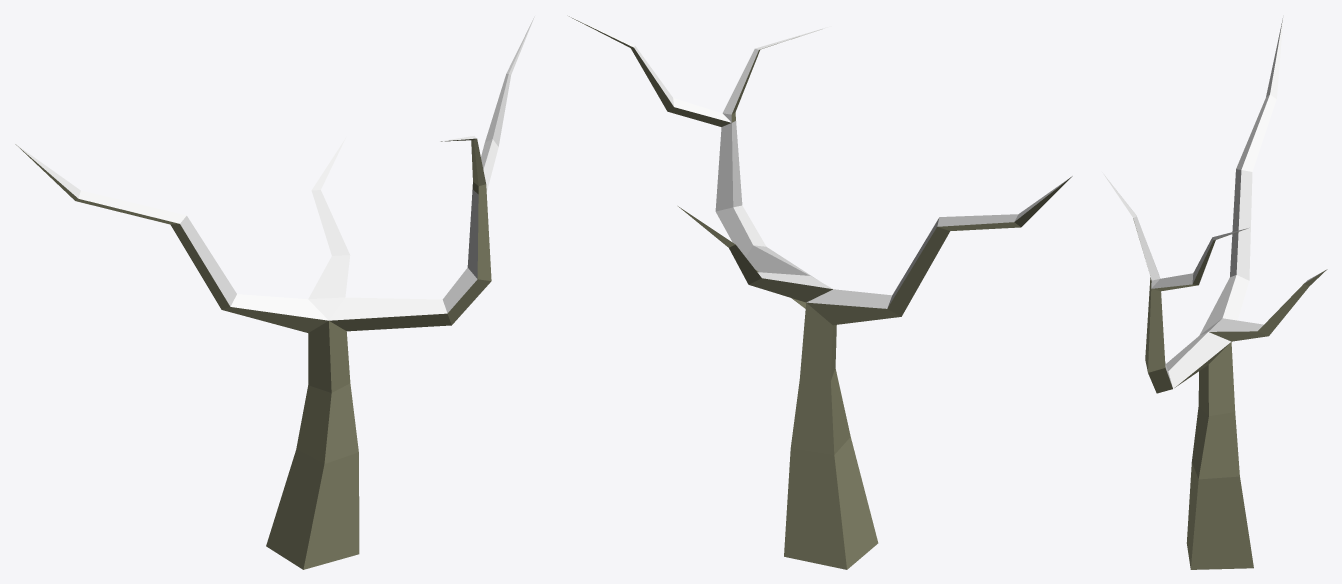
File: Dead_Tree_m_Snow_03_LOD.fbx
3 views of the same model, side by side, from view 1: azimuth 30°, elevation 25°; view 2: azimuth 150°, elevation 25°; view 3: azimuth 270°, elevation 25° (orthographic). The views are drawn at different scales.
Visible parts, largest first — view 1: Dead_Tree_m_Snow_03_LOD0; view 2: Dead_Tree_m_Snow_03_LOD0; view 3: Dead_Tree_m_Snow_03_LOD0.
Part boxes in pixels (left/top/right/bottom): Dead_Tree_m_Snow_03_LOD0: left=15, top=16, right=534, bottom=569; Dead_Tree_m_Snow_03_LOD0: left=565, top=14, right=1072, bottom=569; Dead_Tree_m_Snow_03_LOD0: left=1102, top=15, right=1327, bottom=569.
Size of what is drawn, in the model's own units: 849 by 750 by 352.
